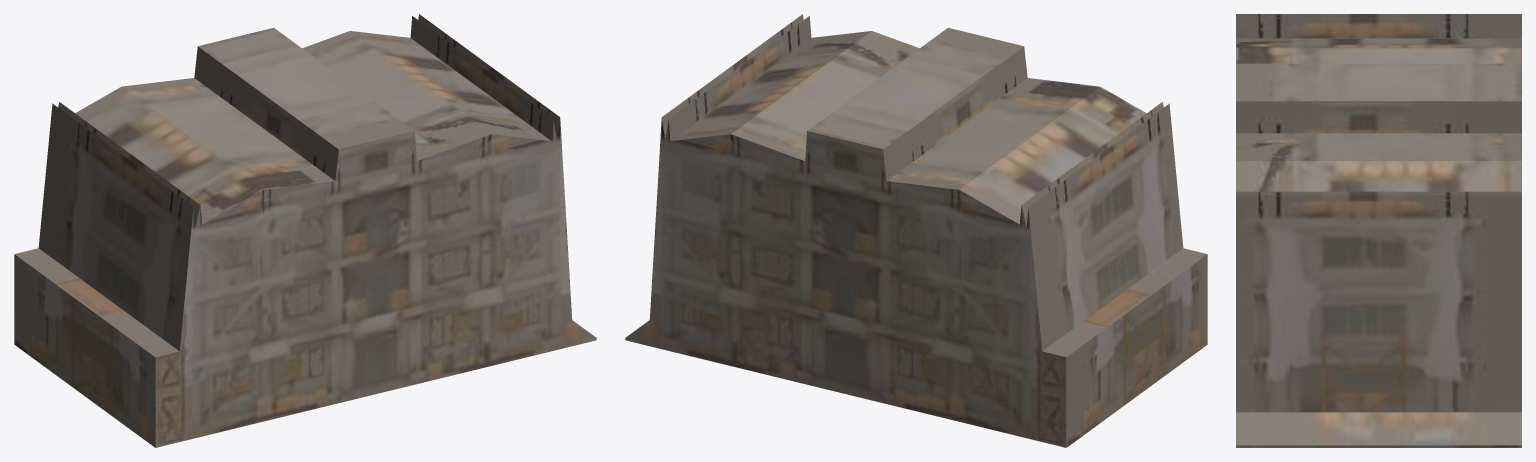
The model's file is bg_city_ruin_2_lod1.glb.
3 renders of one model, left to right at view 1: azimuth 30°, elevation 25°; view 2: azimuth 150°, elevation 25°; view 3: azimuth 270°, elevation 25°, orthographic.
Visible parts, largest first — view 1: body; view 2: body; view 3: body.
Part boxes in pixels (bbox=[...]): body: bbox=[14, 14, 596, 447]; body: bbox=[625, 14, 1207, 447]; body: bbox=[1236, 14, 1521, 447].
Bounding box in the file's own units: 9 × 4.95 × 4.99.
1 material, 1 textured.
